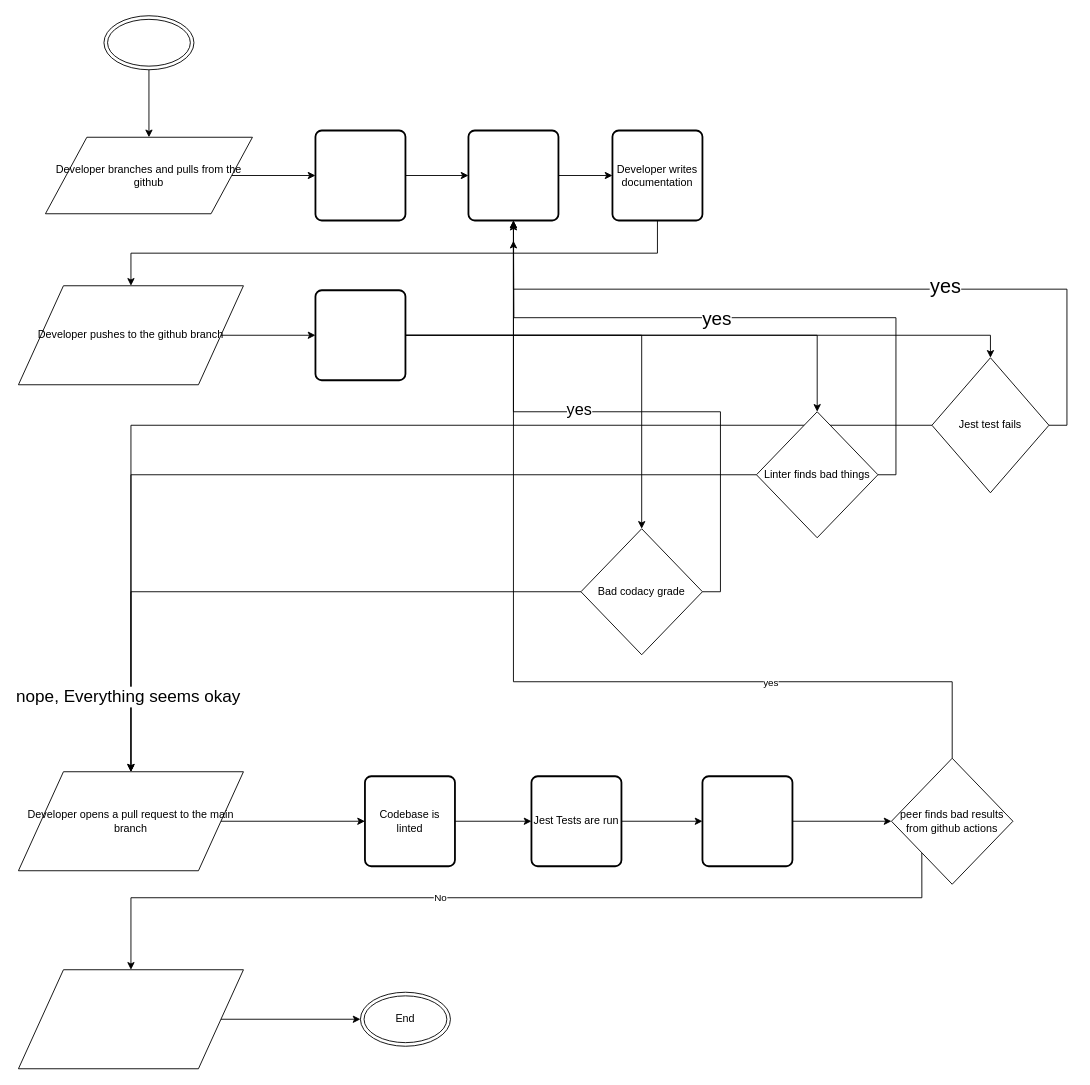
The diagram is 1090 pixels wide and 1085 high, and some of its shapes have lost their labels. Each missing label, with the box of its shape:
Codedacy checks code quality: (701, 775, 793, 867)
Developer codes: (467, 129, 559, 221)
Developer Makes Tests: (314, 129, 406, 221)
Github creates documentation (JS DOCS) and runs other github actions: (314, 289, 406, 381)
Pull Request is merged: (18, 969, 243, 1069)
Start: (103, 15, 194, 70)
